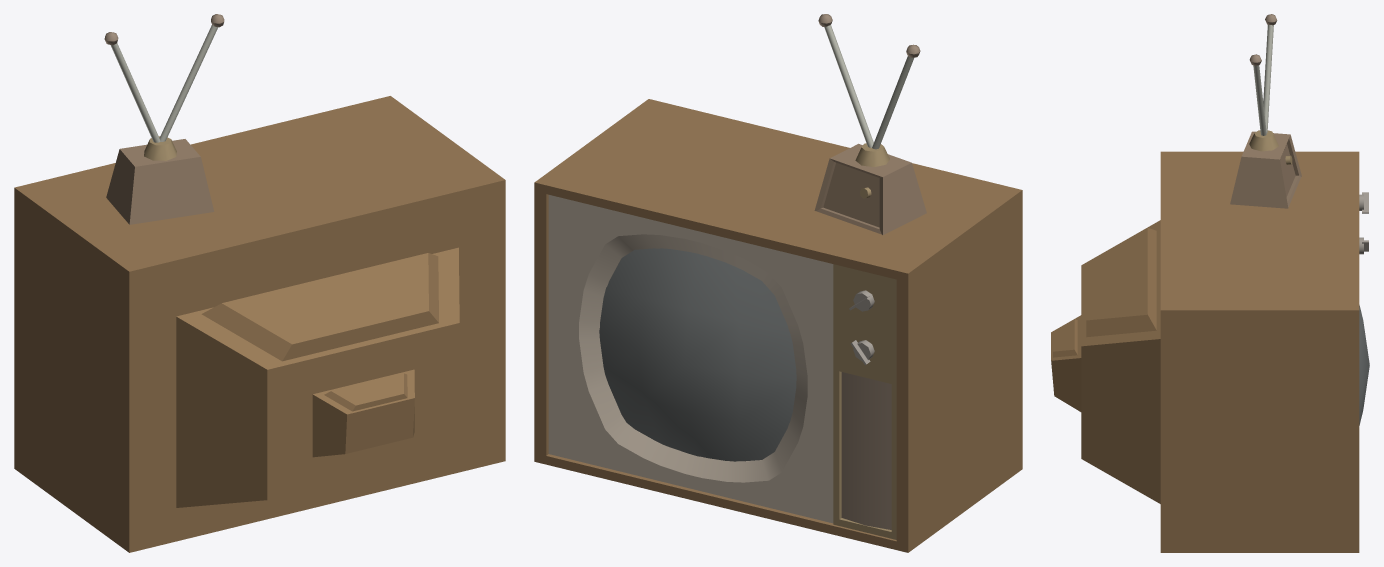
3 views of the same model, side by side, from view 1: azimuth 30°, elevation 25°; view 2: azimuth 150°, elevation 25°; view 3: azimuth 270°, elevation 25° (orthographic). The views are drawn at different scales.
Visible parts, largest first — view 1: tv; view 2: tv; view 3: tv.
Boxes of the visible parts, box(x1,y1,x2,y2) form: tv: box(14, 14, 505, 552); tv: box(534, 14, 1022, 552); tv: box(1051, 14, 1369, 552).
Bounding box in the file's own units: 74.44 × 87.66 × 63.25.
